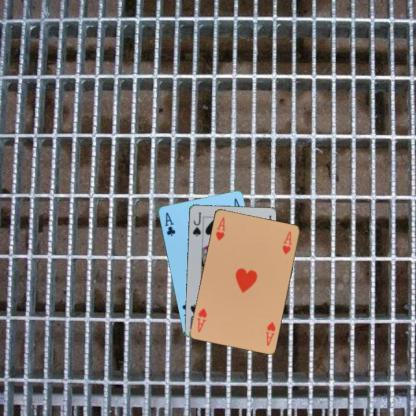Ac: (162, 210, 176, 237)
Ah: (213, 214, 227, 242), (263, 319, 277, 347)
Js: (190, 210, 202, 237)
